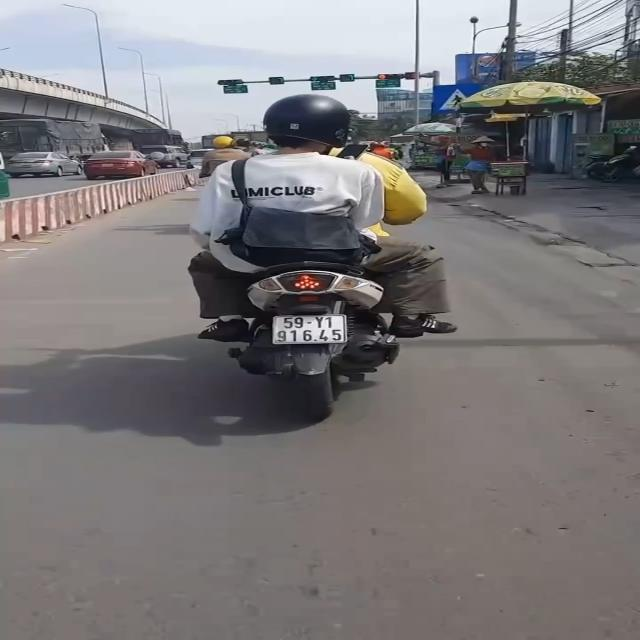224-duong-nguoi-di-bo-cat-ngang: (433, 84, 478, 115)
